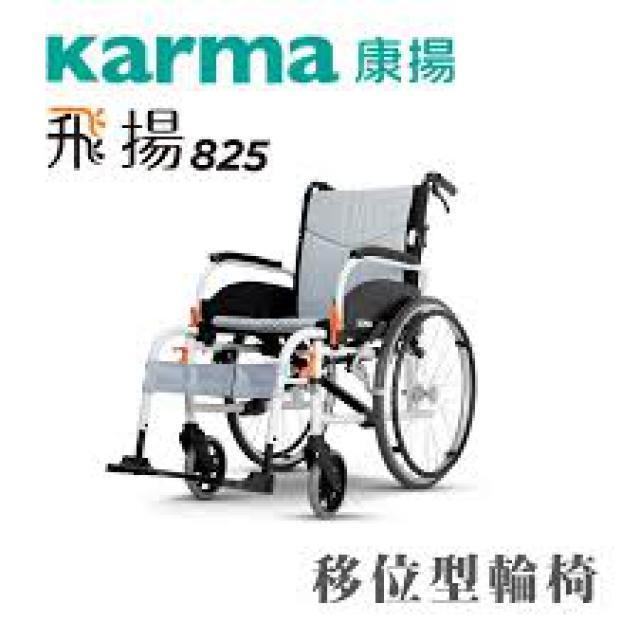wheelchairs: (120, 178, 480, 516)
